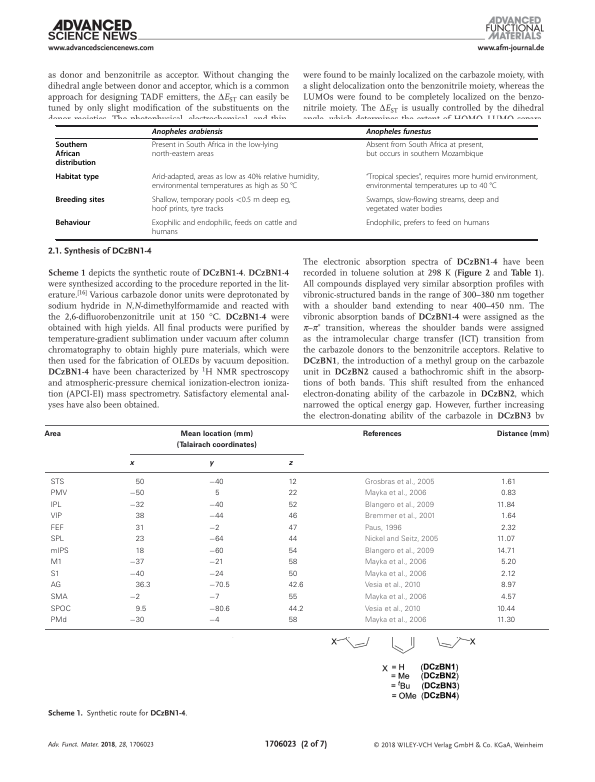borderless: (44, 424, 549, 629), (54, 124, 537, 239)
cell: (365, 173, 538, 192), (151, 173, 320, 192), (151, 219, 298, 238), (151, 196, 291, 215), (365, 196, 500, 215), (151, 141, 279, 160), (365, 141, 484, 160), (176, 430, 258, 450), (365, 219, 490, 229), (54, 141, 97, 169), (364, 535, 439, 544), (151, 128, 224, 137), (364, 513, 436, 522), (364, 478, 435, 487), (364, 501, 435, 510), (364, 547, 435, 556), (365, 128, 432, 137), (364, 570, 427, 579), (364, 593, 427, 602), (364, 616, 427, 625), (54, 196, 106, 206), (364, 582, 421, 591), (364, 605, 421, 614), (364, 490, 427, 498), (364, 559, 427, 567), (54, 173, 100, 183), (496, 430, 550, 438), (54, 219, 91, 229), (364, 524, 403, 533), (362, 430, 403, 438), (208, 582, 231, 591), (208, 605, 231, 614), (50, 605, 72, 614), (496, 501, 516, 510), (496, 535, 516, 544), (50, 547, 70, 556), (496, 547, 516, 556), (496, 605, 516, 614), (496, 616, 516, 625), (50, 593, 68, 602), (50, 616, 68, 625), (208, 478, 225, 487), (500, 478, 517, 487), (208, 501, 225, 510), (208, 513, 225, 522), (500, 513, 517, 522), (500, 524, 517, 533), (208, 535, 225, 544), (208, 547, 225, 556), (208, 559, 225, 568), (208, 570, 225, 579), (500, 582, 517, 591), (500, 593, 517, 602), (43, 430, 62, 438), (50, 490, 68, 498), (129, 501, 145, 510), (129, 559, 145, 568), (129, 570, 145, 579), (500, 570, 516, 579), (135, 582, 151, 591), (288, 582, 304, 591), (288, 605, 304, 614), (129, 616, 145, 625), (500, 490, 517, 498), (500, 559, 517, 567), (50, 478, 65, 487), (50, 524, 65, 533), (50, 535, 65, 544), (129, 490, 145, 498), (50, 501, 63, 510), (50, 513, 63, 522), (50, 559, 63, 568), (208, 524, 220, 533), (50, 582, 62, 591), (129, 593, 141, 602), (208, 593, 220, 602), (135, 605, 147, 614), (208, 616, 220, 625), (135, 478, 145, 487), (288, 478, 298, 487), (288, 501, 298, 510), (135, 513, 145, 522), (288, 513, 298, 522), (135, 524, 145, 533), (288, 524, 298, 533), (135, 535, 145, 544), (288, 535, 298, 544), (135, 547, 145, 556), (288, 547, 298, 556), (288, 559, 298, 568), (50, 570, 60, 579), (288, 570, 298, 579), (288, 593, 298, 602), (288, 616, 298, 625), (288, 490, 298, 498), (214, 490, 220, 498), (129, 461, 135, 468), (208, 461, 214, 468), (288, 461, 293, 468)
